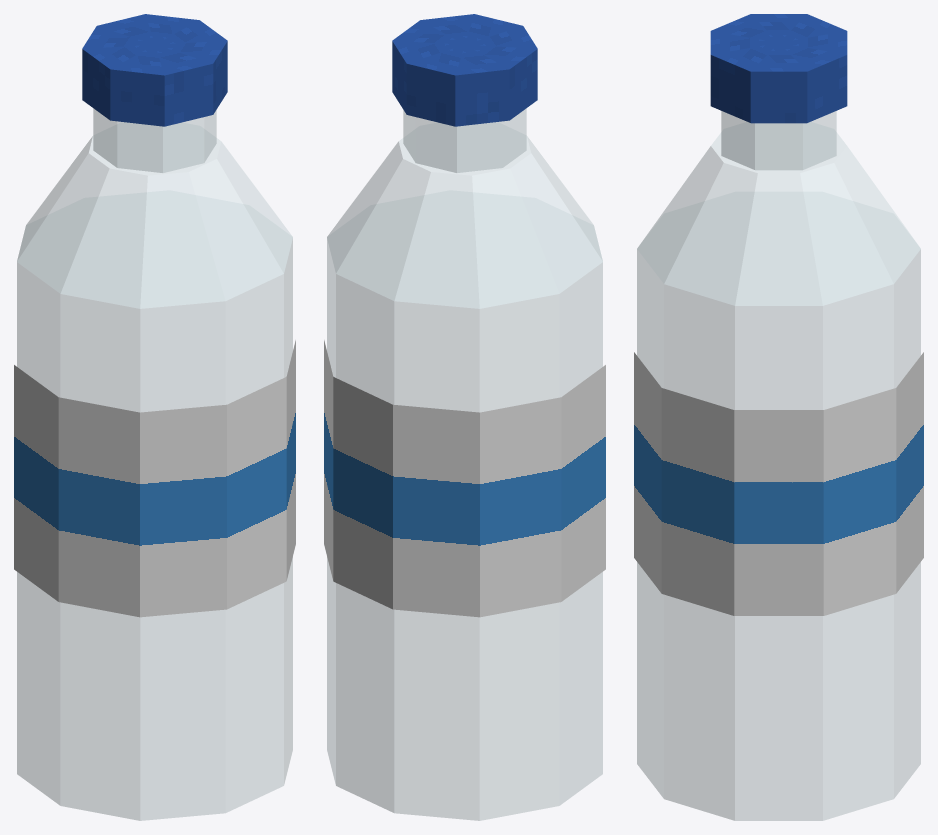
File: bottle_plastic_small.glb
The picture shows the model from 3 angles, left to right: view 1: azimuth 30°, elevation 25°; view 2: azimuth 150°, elevation 25°; view 3: azimuth 270°, elevation 25°; orthographic projection.
Visible parts, largest first — view 1: block_body, block_label, block_shoulder, block_cap, block_neck; view 2: block_body, block_label, block_shoulder, block_cap, block_neck; view 3: block_body, block_label, block_shoulder, block_cap, block_neck.
Boxes of the visible parts, x1,y1,x2,y2 form: block_body: (17,190,292,820); block_label: (14,340,295,617); block_shoulder: (17,122,292,308); block_cap: (82,14,227,126); block_neck: (93,108,216,172); block_body: (327,190,602,820); block_label: (324,340,605,617); block_shoulder: (327,122,602,308); block_cap: (392,14,537,126); block_neck: (403,108,526,172); block_body: (637,192,920,820); block_label: (634,352,923,615); block_shoulder: (637,122,920,305); block_cap: (710,14,847,123); block_neck: (721,111,836,170).
Size of the model in its own units: 0.0485 by 0.14 by 0.051.
2 materials, 2 textured.
